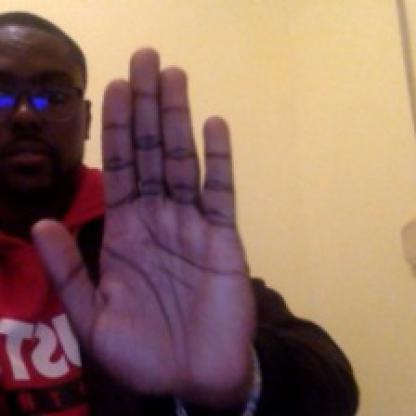TURN RIGHT: (31, 43, 266, 410)
